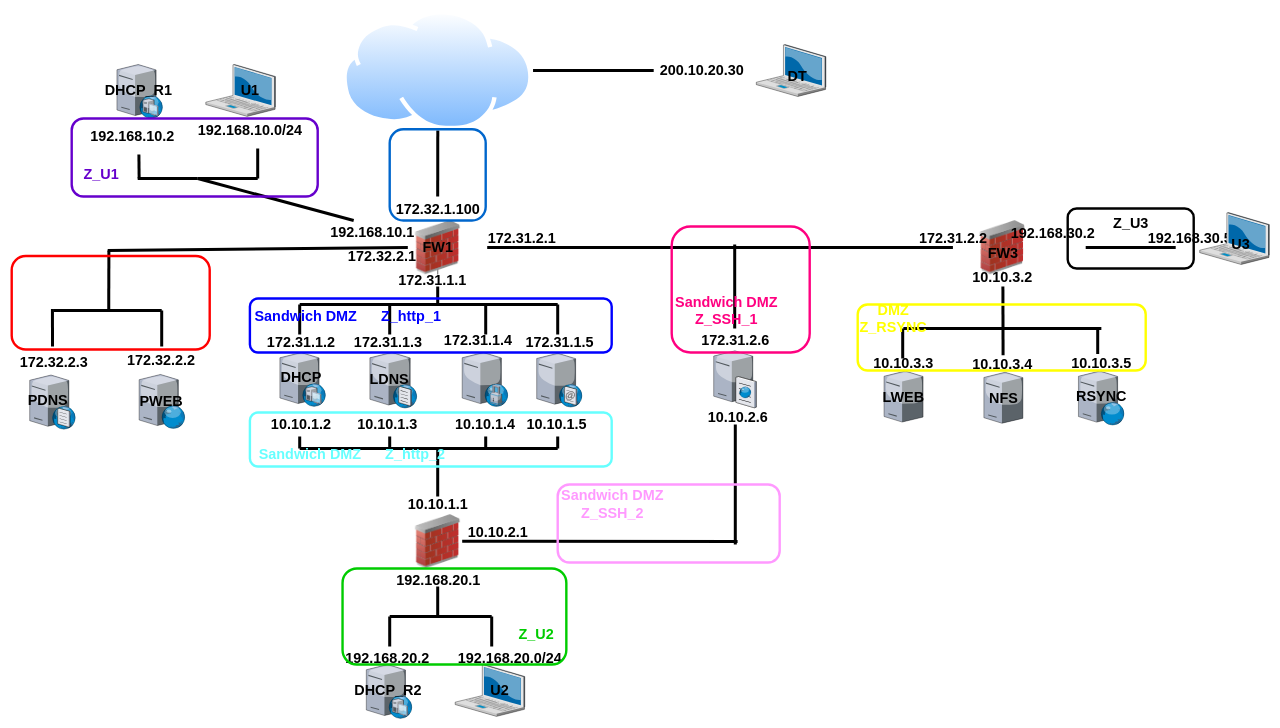
Image size: 1280x728. Some labels were removed from this diagram. Here are the shapes that lost their labels. From the top down, the centre of each, then its label:
At pixel 110 302: "DMZ Z_PWEB-DNS".
At pixel 485 379: "HTTP".
At pixel 559 379: "MAIL".
At pixel 734 378: "SSH".
At pixel 437 541: "FW2".
